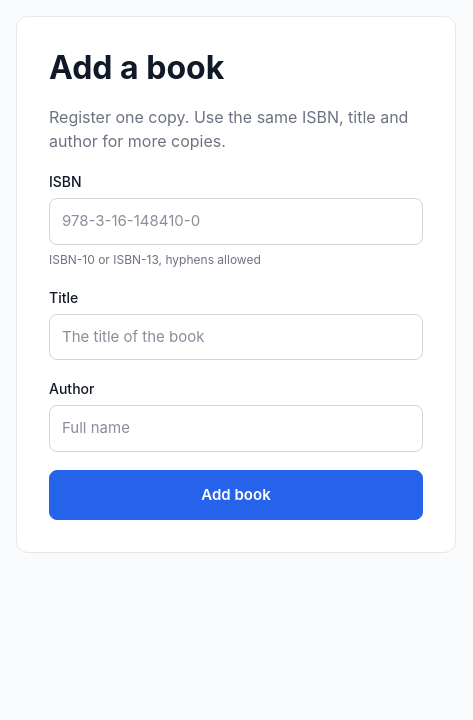
Test: AddBookPage › sends the trimmed values with the token and reports the new book
The width and height of the screenshot is (473, 720).
Type "978-955-675-510-7" into the field labelled "ISBN" at (236, 222), box [49, 198, 423, 245]
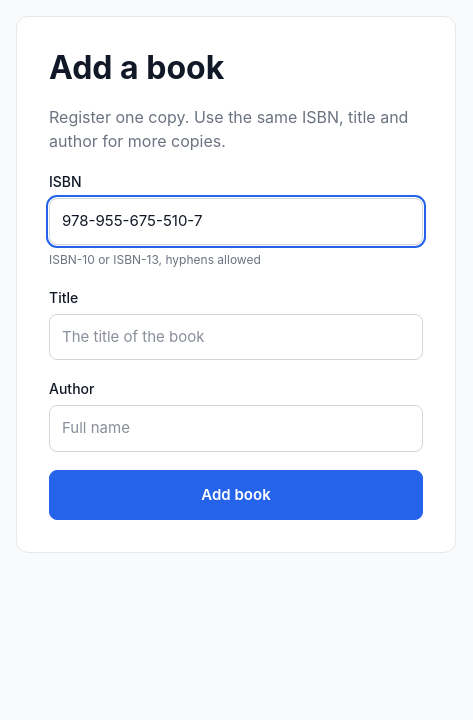
Type "  Dune  " into the field labelled "Title" at (236, 337), box [49, 314, 423, 360]
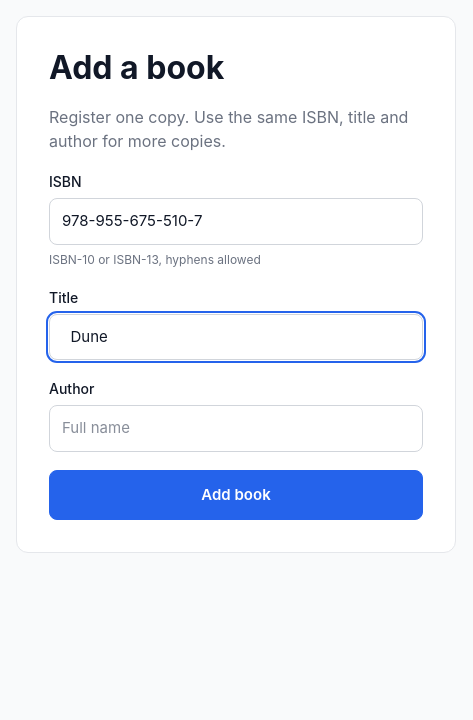
Type "Frank Herbert" into the field labelled "Author" at (236, 429), box [49, 405, 423, 452]
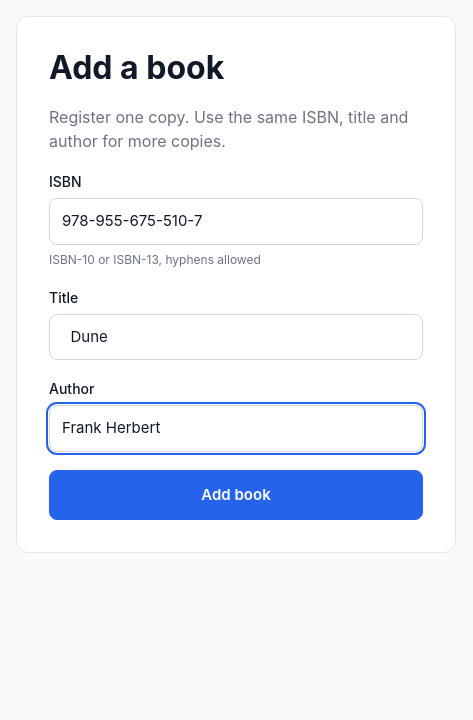
Click the button "Add book" at (236, 495), box [49, 470, 423, 520]
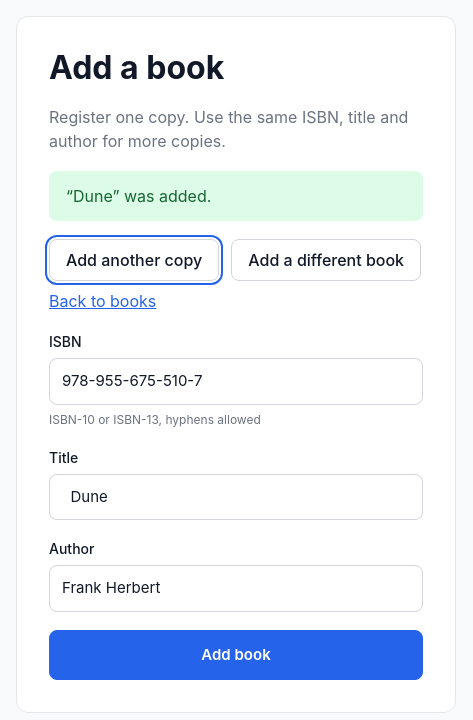
Check: the message shows "“Dune” was added", box [49, 171, 423, 221]
